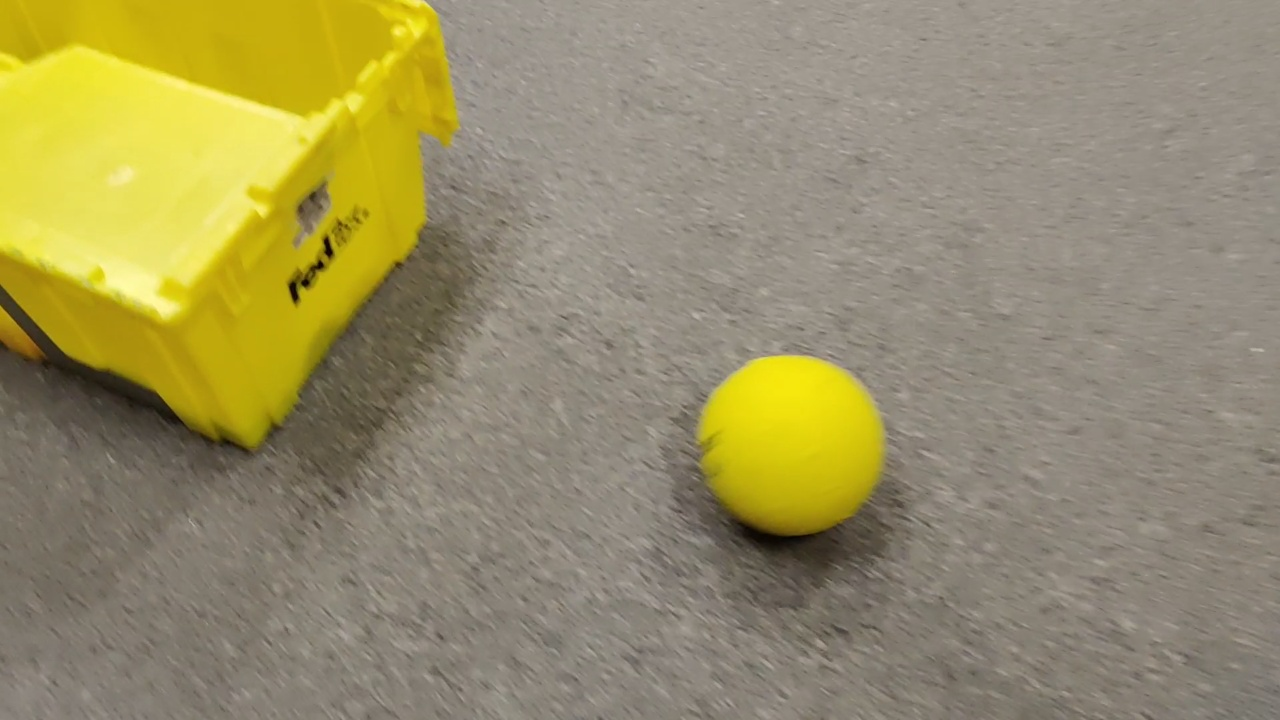Ball: (707, 359, 882, 537)
